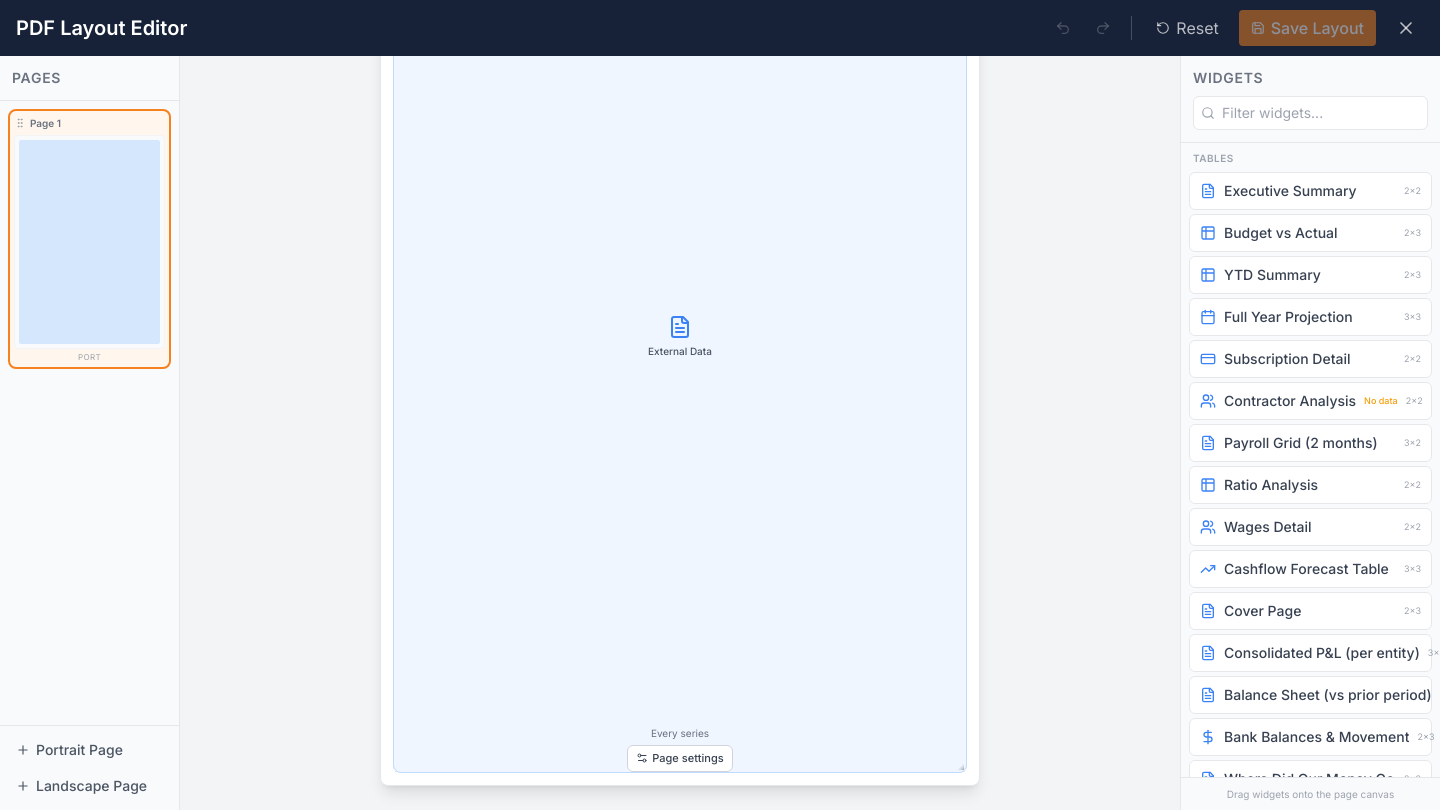
Test: IICT's HubSpot trend › settings the page would refuse cannot be applied, and say why
The image size is (1440, 810).
(page scrolled)
Click the button "Page settings" at [680, 758], box [627,745,733,772]
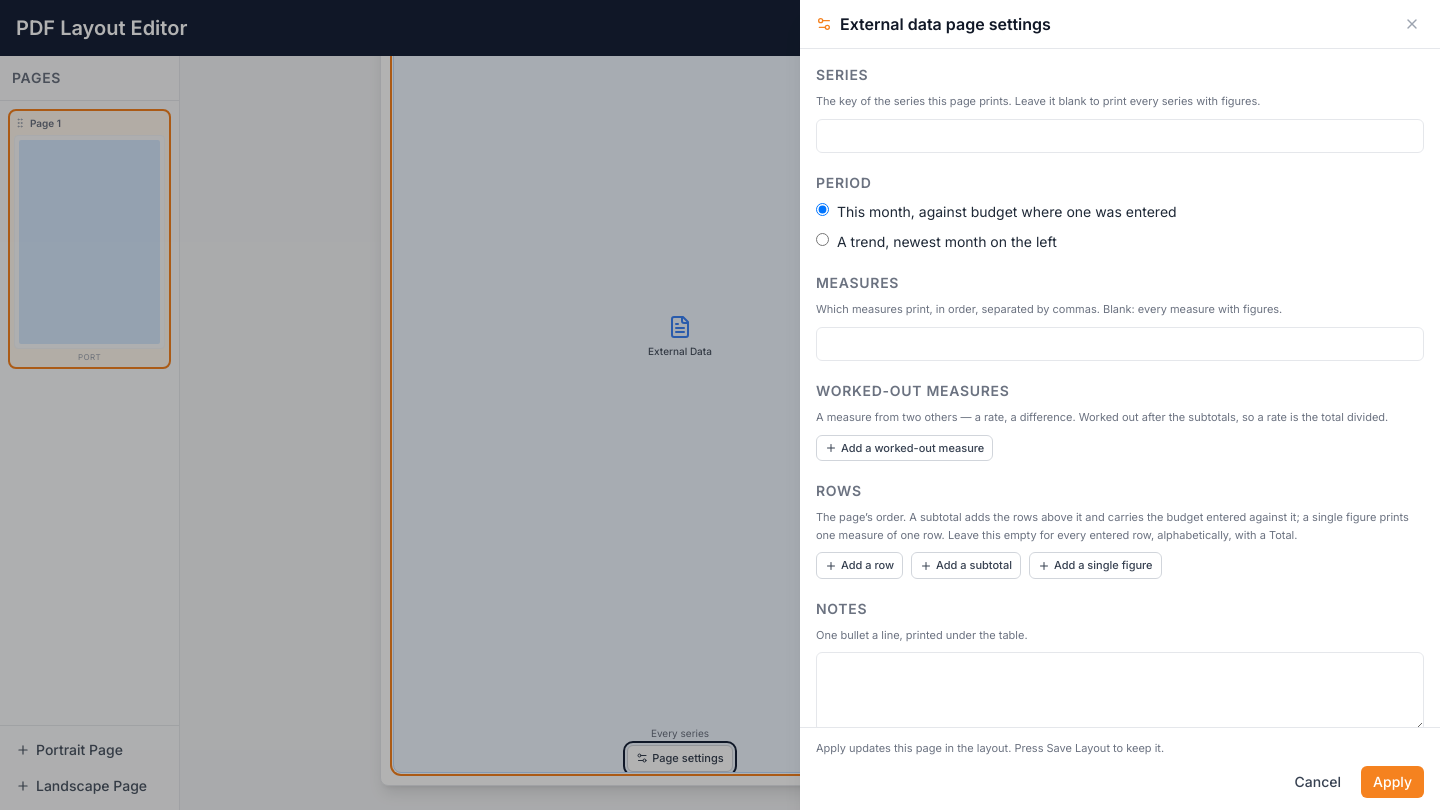
Click the button "Add a subtotal" at [966, 566], box [911,552,1021,579]
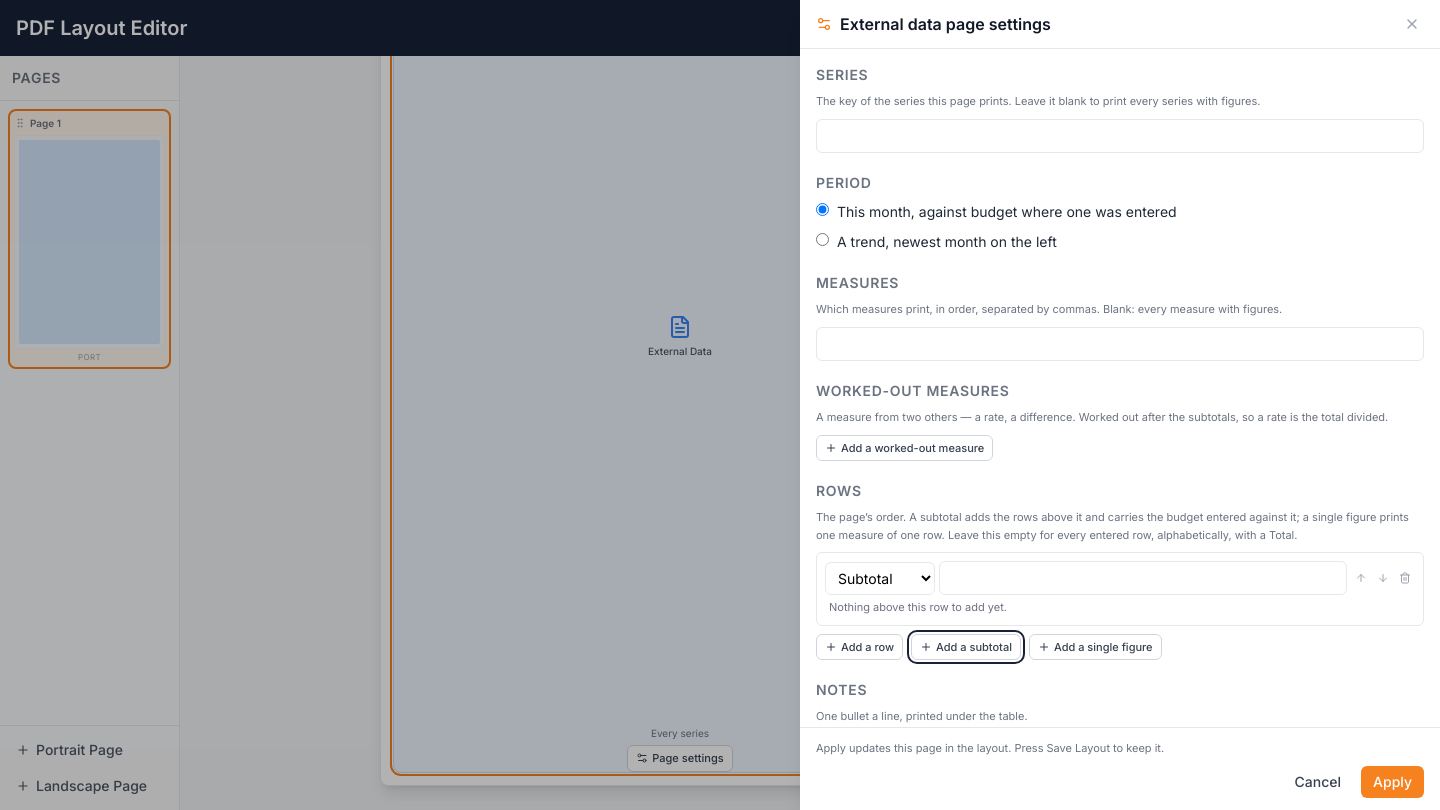
Type "Total" into the field named "Row name 1" at [1143, 578], box [939,561,1347,595]
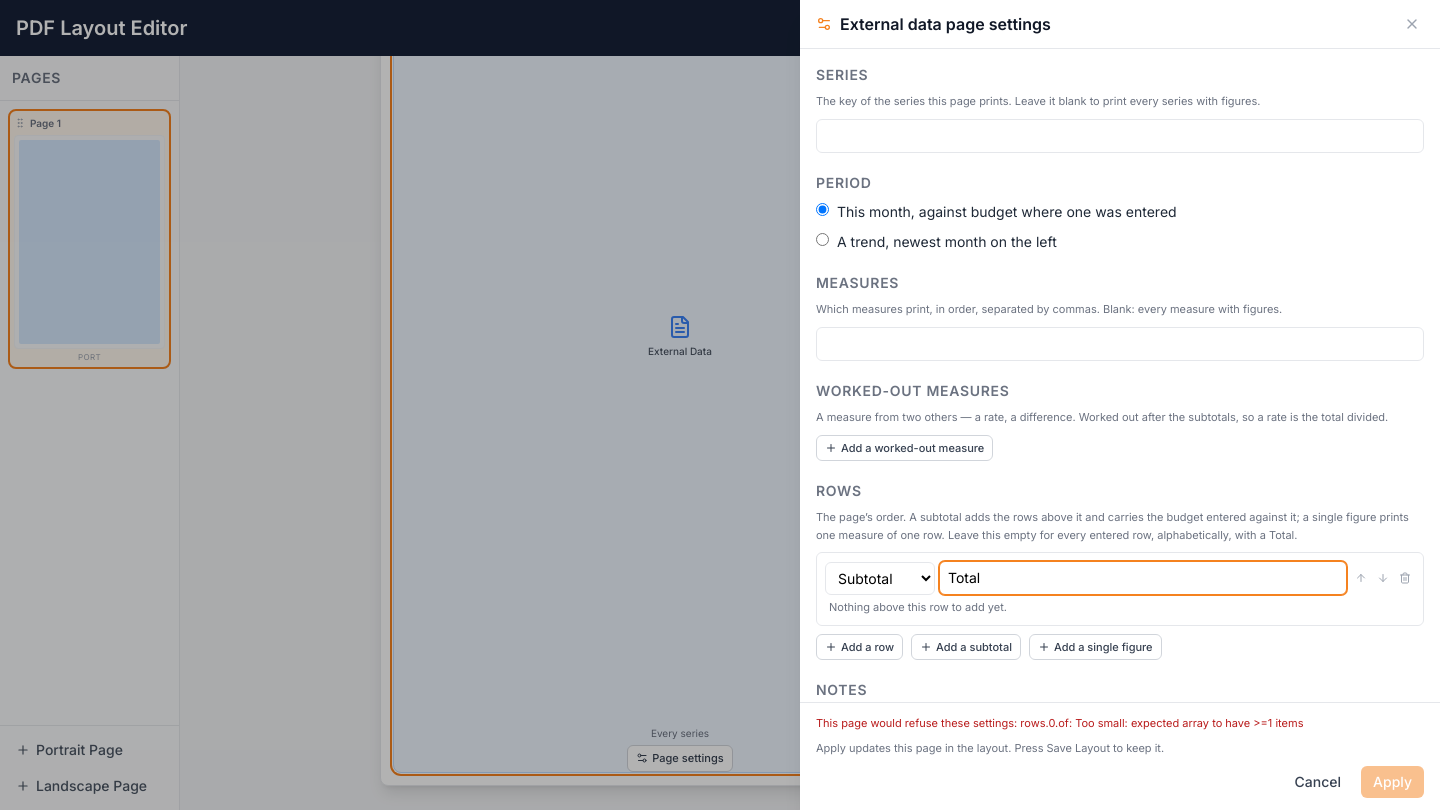
Check: the text "would refuse these settings" is shown, box [816,716,1020,730]
Check: the button "Apply" is disabled, box [1361,766,1424,798]
